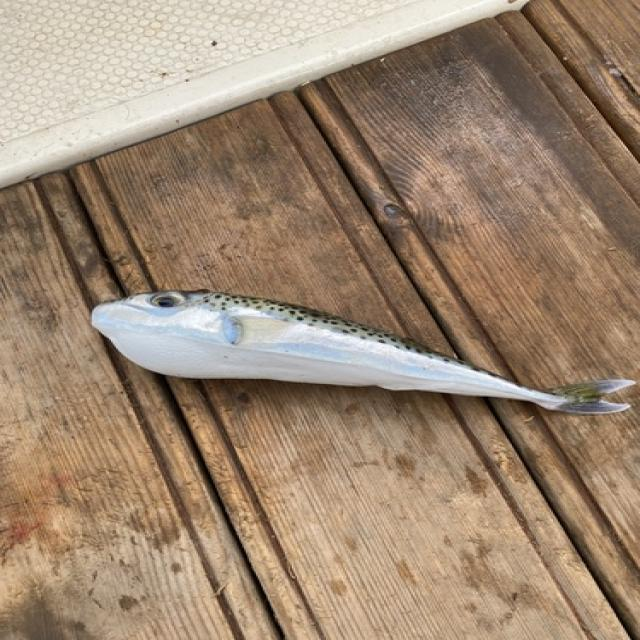Balik: (93, 291, 634, 413)
